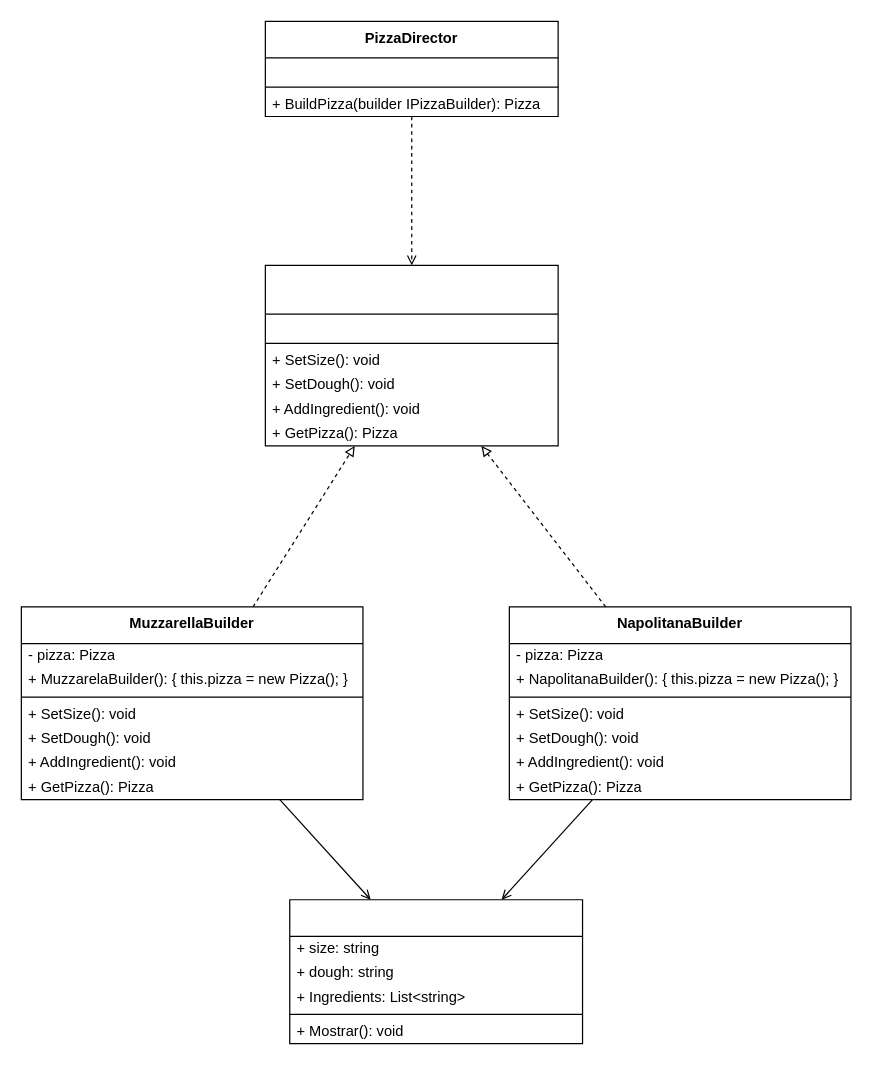
This 872x1065 diagram has some shape labels left out. The box of each missing label's shape, as (x1, y1, x2, y2) in pixels:
<<Interface>> IPizzaBuilder: (264, 264, 558, 446)
Pizza: (289, 899, 583, 1044)
